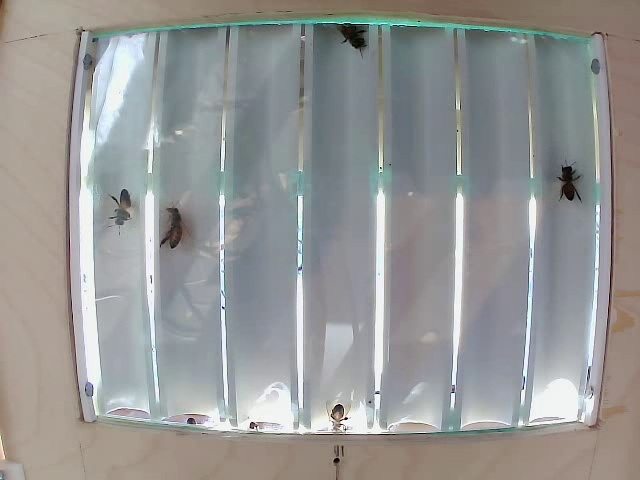bee: (552, 163, 581, 224), (108, 187, 142, 236), (163, 202, 192, 258)
